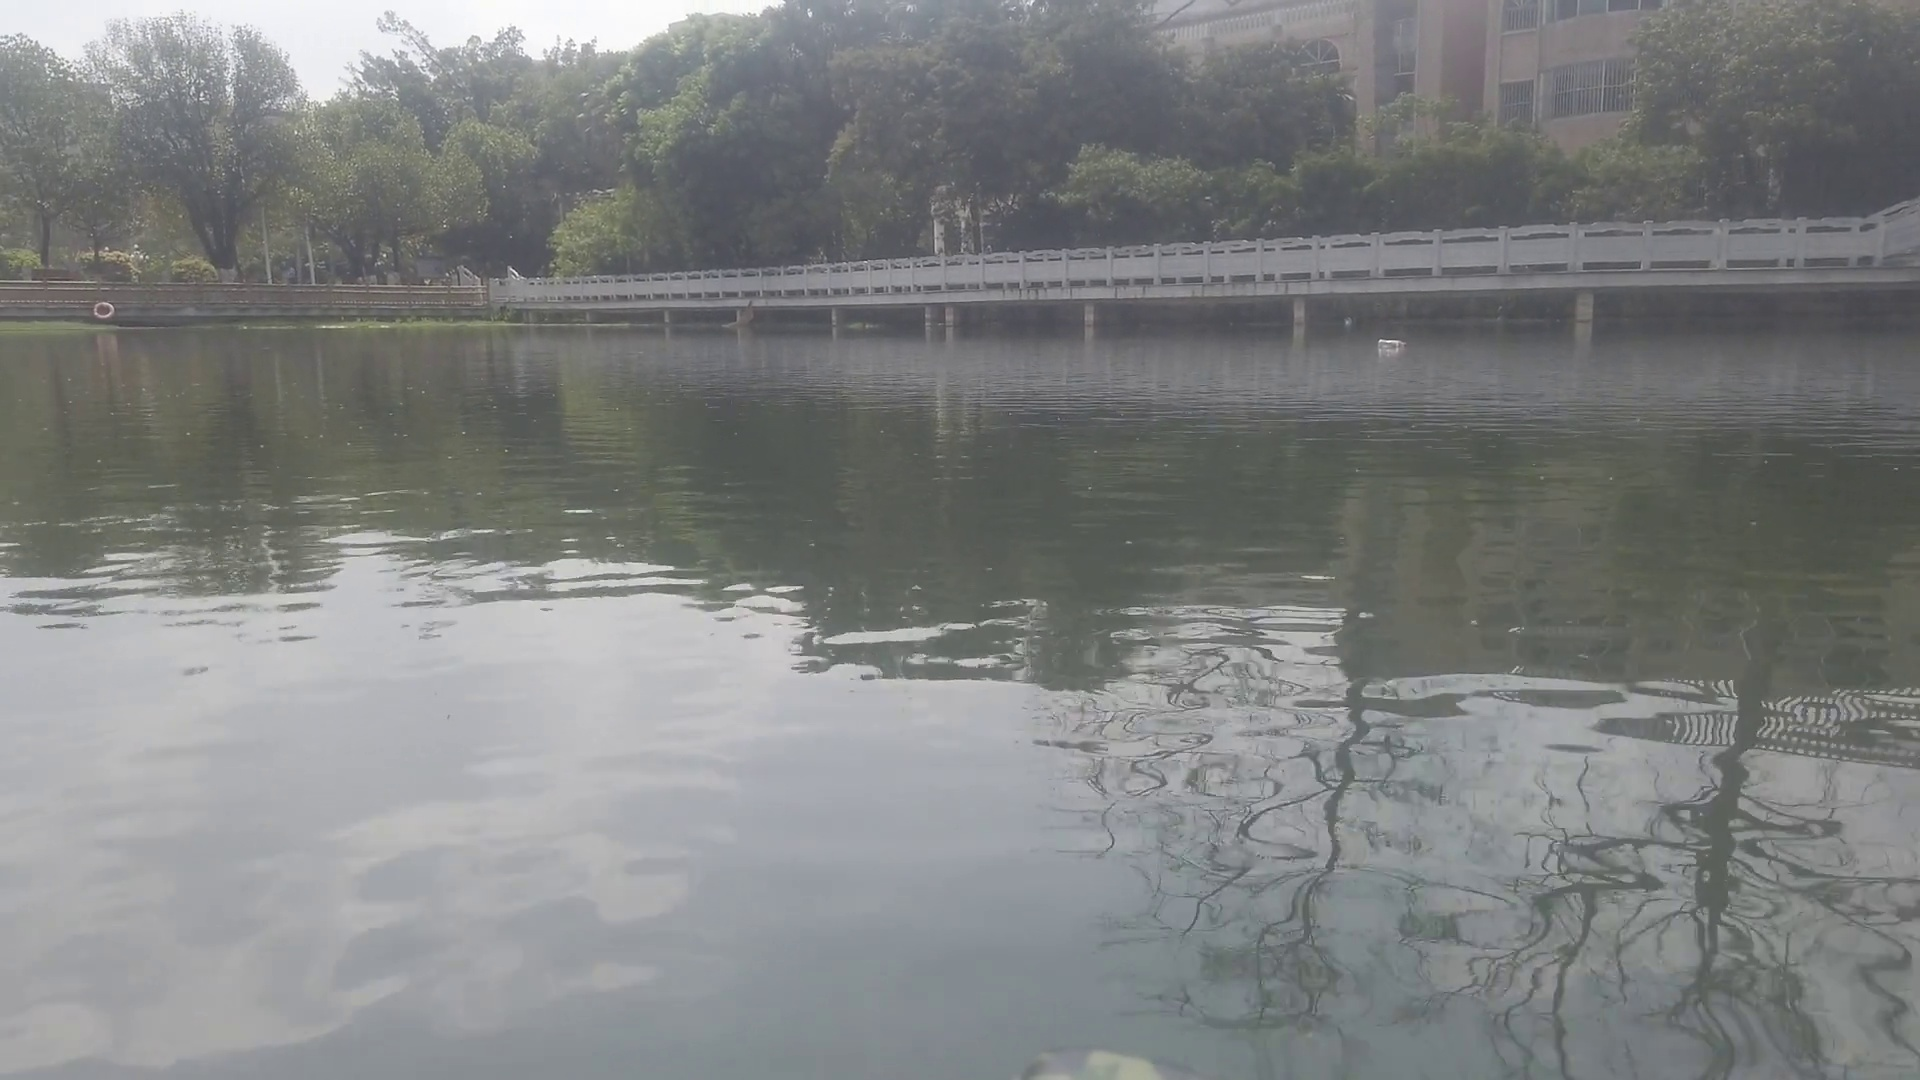bottle: (1378, 332, 1408, 351)
